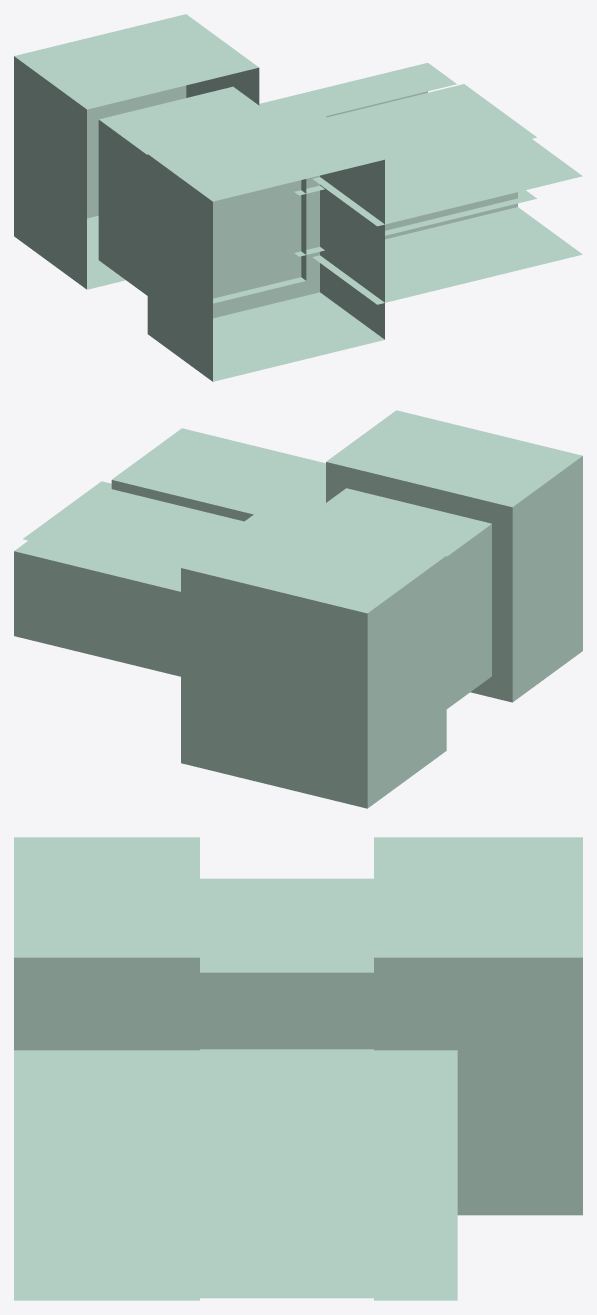
3 views of the same model, one above another, from view 1: azimuth 30°, elevation 25°; view 2: azimuth 150°, elevation 25°; view 3: azimuth 270°, elevation 25° (orthographic). The views are drawn at different scales.
Parts seen in each view (by area): view 1: Object23; view 2: Object23; view 3: Object23.
Boxes of the visible parts, x1=… form: Object23: x1=14, y1=14, x2=582, y2=381; Object23: x1=14, y1=410, x2=582, y2=808; Object23: x1=14, y1=837, x2=582, y2=1300.
Bounding box in the file's own units: 7552 × 3383 × 6768.
